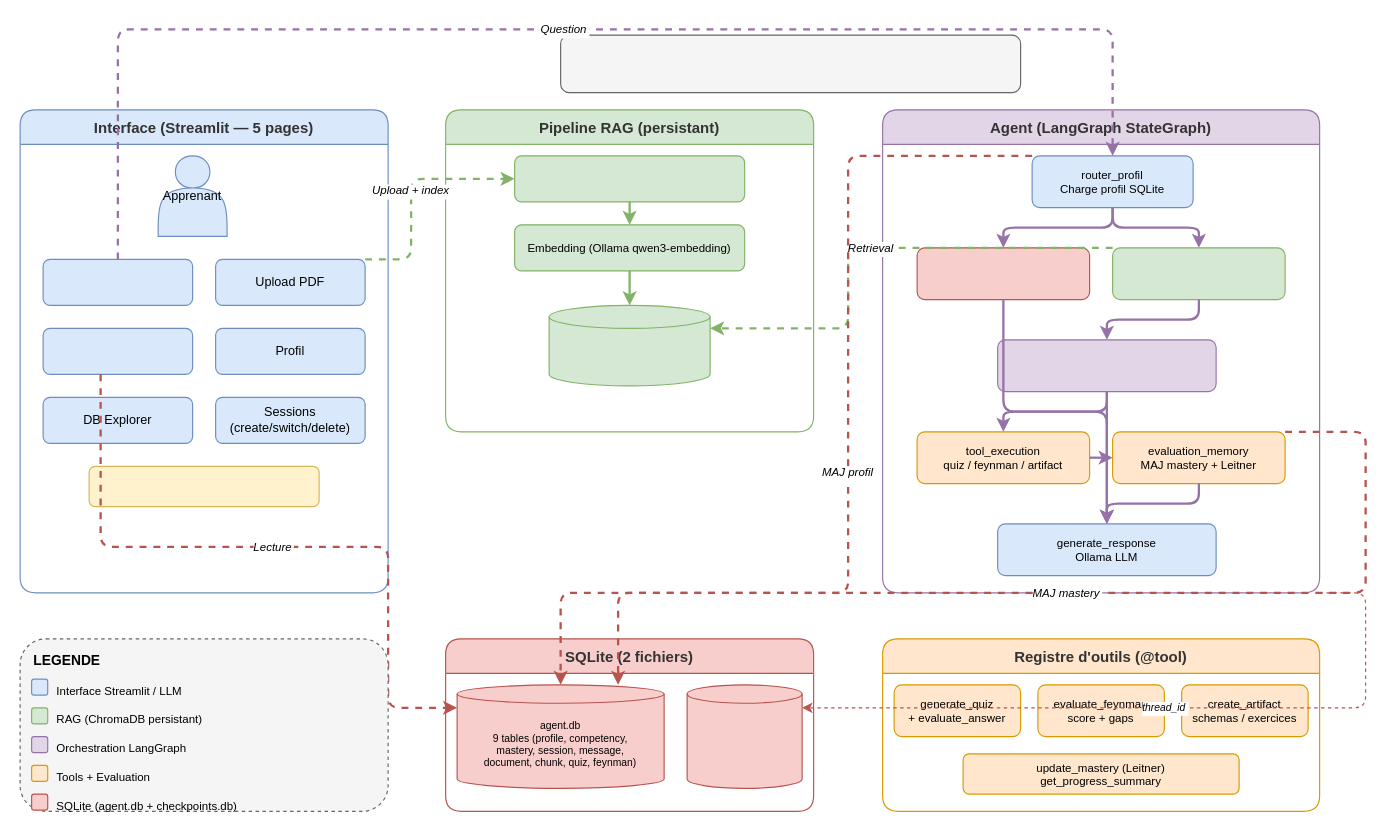
Image size: 1396x833. Some labels were removed from this diagram. Each missing label, with the box of its shape:
Agent d'Apprentissage — Architecture V2 LangGraph + Ollama + ChromaDB + SQLite: (559, 34, 1021, 93)
Chat (st.chat_input): (42, 258, 193, 305)
checkpoints.db LangGraph StateGraph persistence: (686, 684, 802, 788)
ChromaDB persistant (add_documents incrémental): (548, 304, 710, 386)
Chunking hiérarchique (rag/ingestion.py): (513, 155, 745, 202)
Dashboard (Plotly): (42, 327, 193, 374)
diagnostic Questions + upsert mastery: (916, 247, 1090, 300)
Indexation bg (st.status): (88, 465, 319, 507)
method_selection Scaffold / Socratic / Quiz / Feynman: (996, 339, 1216, 392)
retrieve RAG ChromaDB: (1111, 247, 1285, 300)
